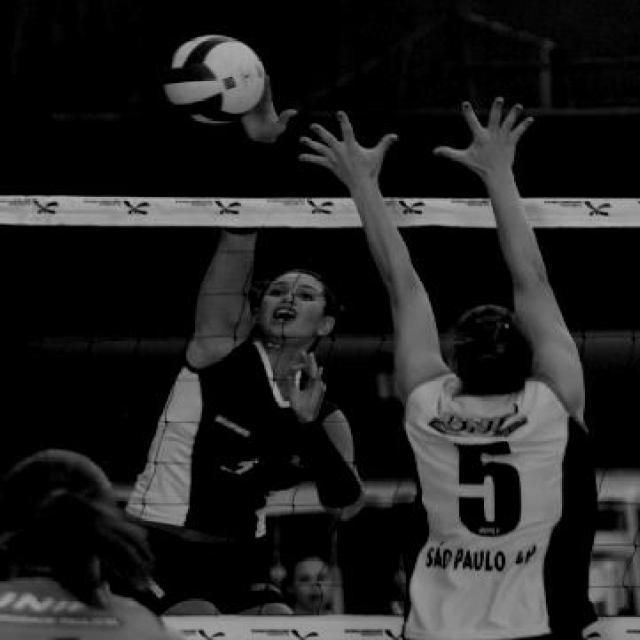volleyball: (162, 34, 266, 125)
